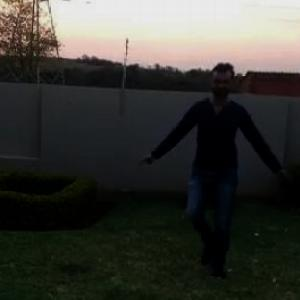land: (162, 71, 276, 240)
